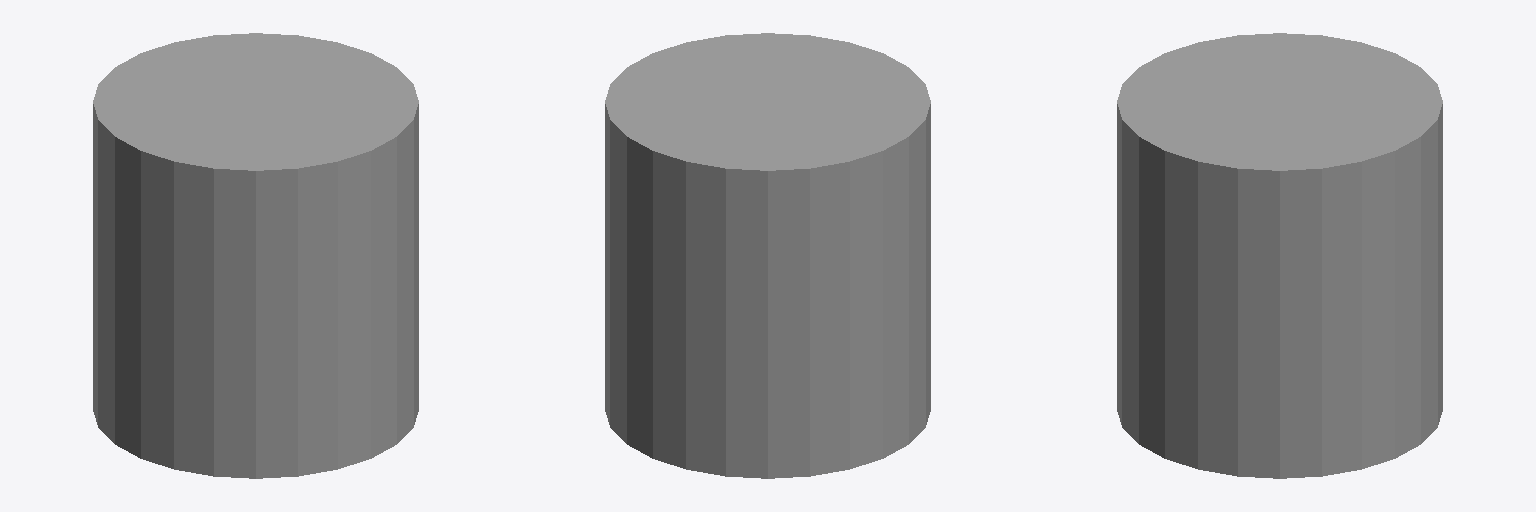
3 renders of one model, left to right at view 1: azimuth 30°, elevation 25°; view 2: azimuth 150°, elevation 25°; view 3: azimuth 270°, elevation 25°, orthographic.
Visible parts, largest first — view 1: Non_subD; view 2: Non_subD; view 3: Non_subD.
Boxes of the visible parts, box(x1,y1,x2,y2) form: Non_subD: box(93, 33, 418, 478); Non_subD: box(605, 33, 930, 478); Non_subD: box(1117, 33, 1442, 478).
Bounding box in the file's own units: 4.22 × 4.39 × 4.22.